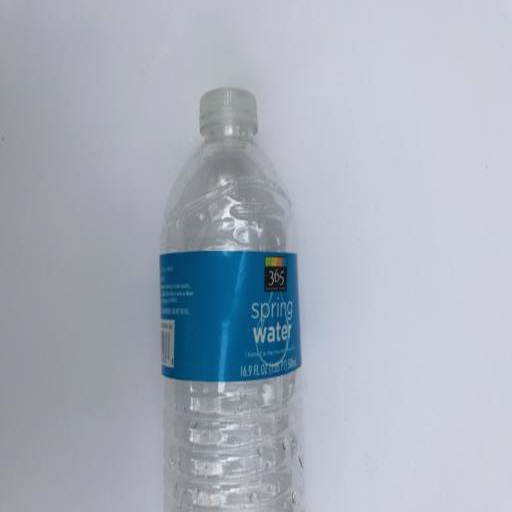Plastic_0: (159, 86, 305, 512)
